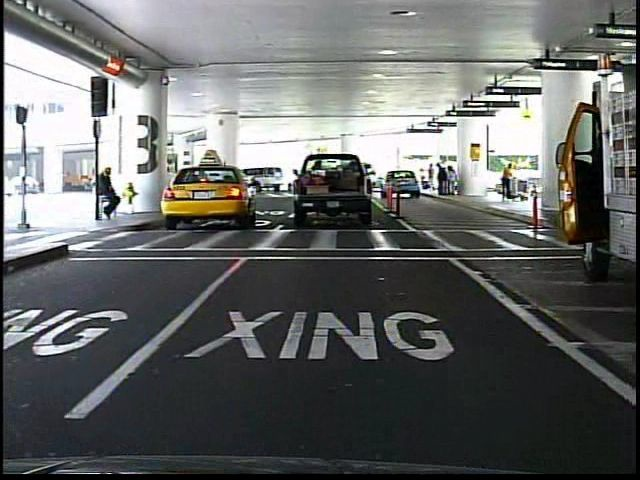person: (98, 162, 126, 226), (497, 159, 518, 207)
